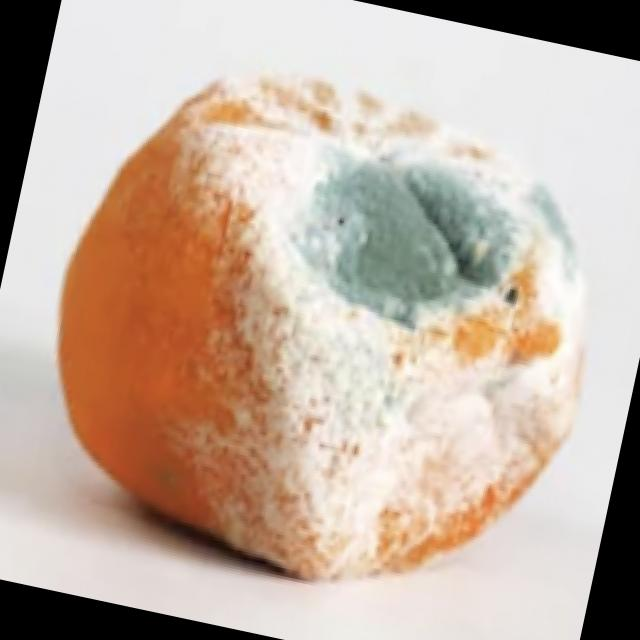rotten-orange: (7, 29, 631, 632)
